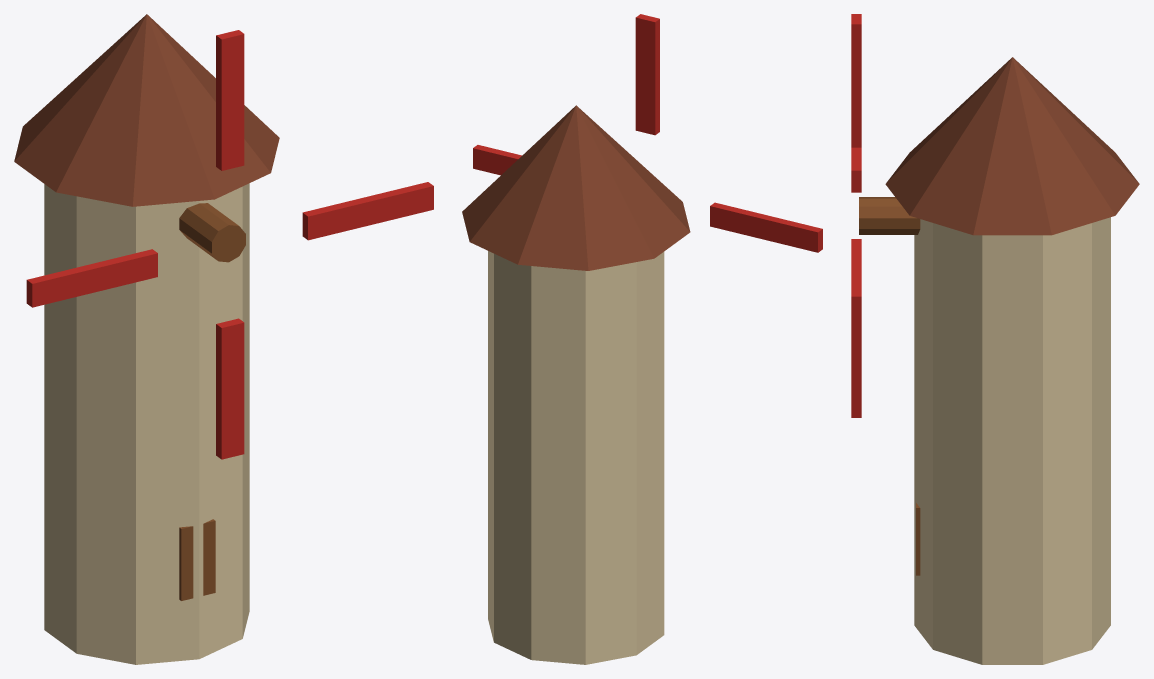
Rendered from SM_RedWindmill_A.glb.
3 renders of one model, left to right at view 1: azimuth 30°, elevation 25°; view 2: azimuth 150°, elevation 25°; view 3: azimuth 270°, elevation 25°, orthographic. The views are drawn at different scales.
Visible parts, largest first — view 1: SM_RedWindmill_A; view 2: SM_RedWindmill_A; view 3: SM_RedWindmill_A.
Part boxes in pixels (box(x1,y1,x2,y2)): SM_RedWindmill_A: box(14, 14, 433, 664); SM_RedWindmill_A: box(462, 14, 822, 664); SM_RedWindmill_A: box(851, 14, 1139, 664).
Bounding box in the file's own units: 4.95 × 7.62 × 3.29.
